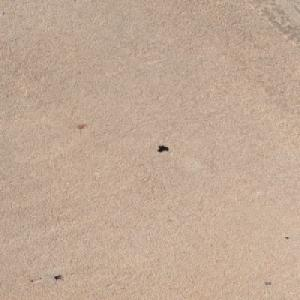BoltWasher: (156, 145, 166, 151)
